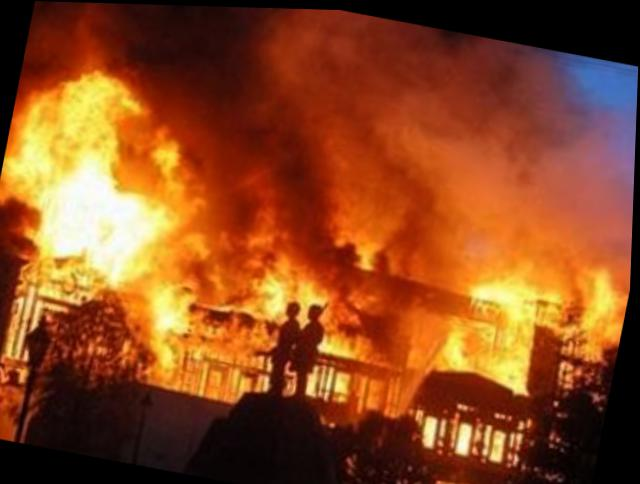fire: (0, 56, 638, 483)
